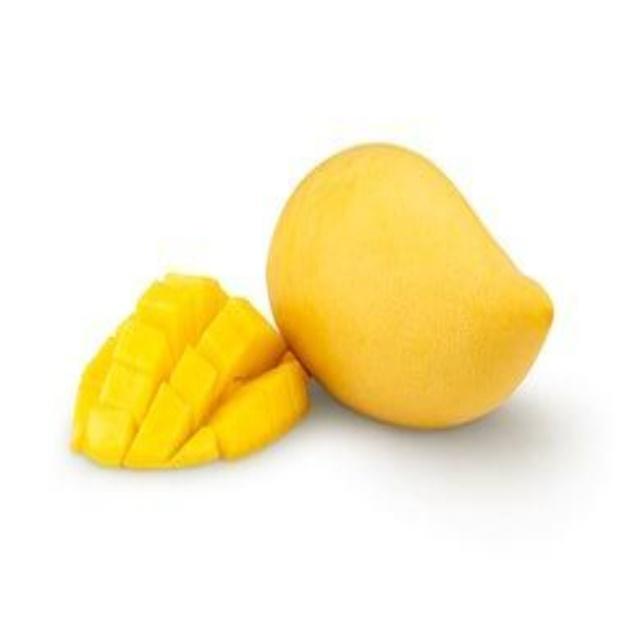mango: (270, 142, 554, 431)
